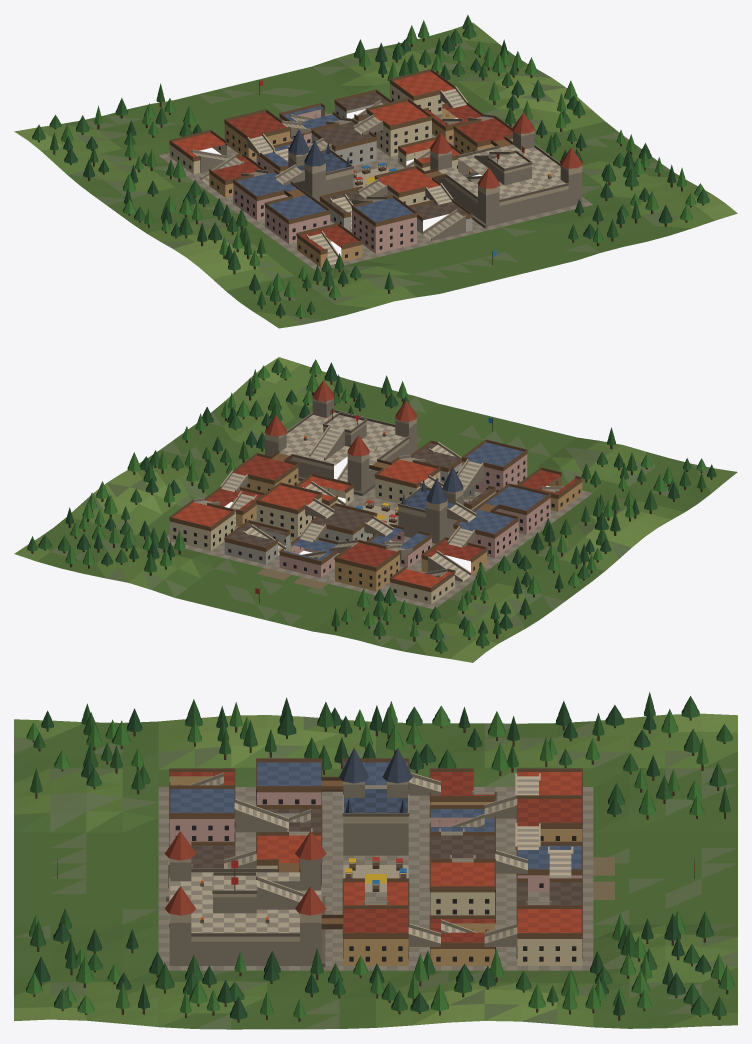
The model's file is battle_city.glb.
3 views of the same model, one above another, from view 1: azimuth 30°, elevation 25°; view 2: azimuth 150°, elevation 25°; view 3: azimuth 270°, elevation 25° (orthographic). The views are drawn at different scales.
Visible parts, largest first — view 1: City; view 2: City; view 3: City.
Boxes of the visible parts, x1,y1,x2,y2 form: City: [14, 15, 737, 328]; City: [14, 357, 737, 662]; City: [14, 692, 737, 1029].
Bounding box in the file's own units: 200 × 27.4 × 200.
